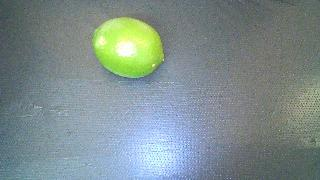EXPORTACION: (92, 17, 164, 78)
